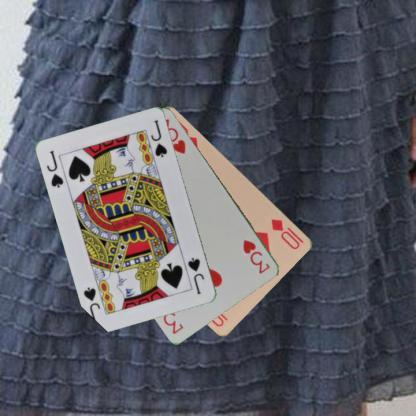10d: (268, 216, 306, 251)
3h: (240, 237, 272, 275)
Js: (44, 148, 65, 190), (186, 255, 206, 296)
